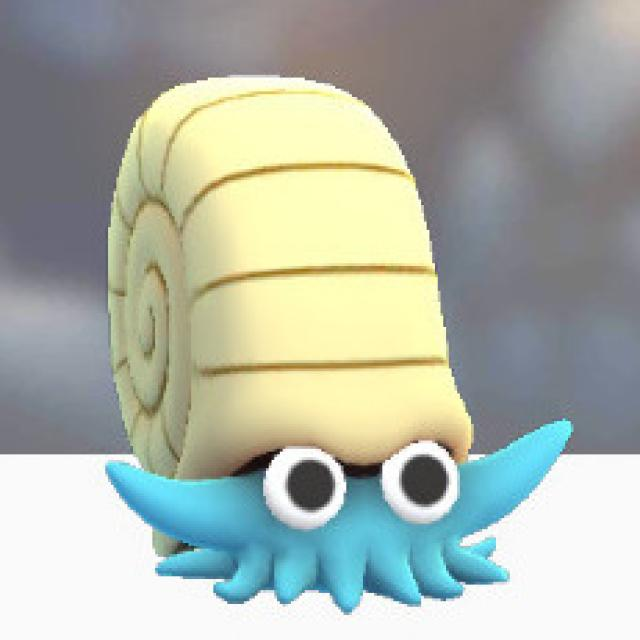Omanyte: (102, 71, 497, 607)
